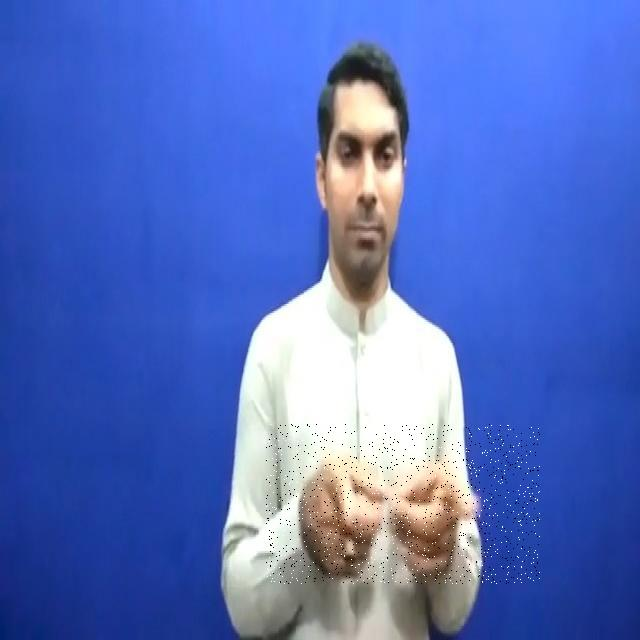sweet: (266, 424, 540, 584)
